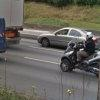Motorcycle: (48, 35, 100, 87)
